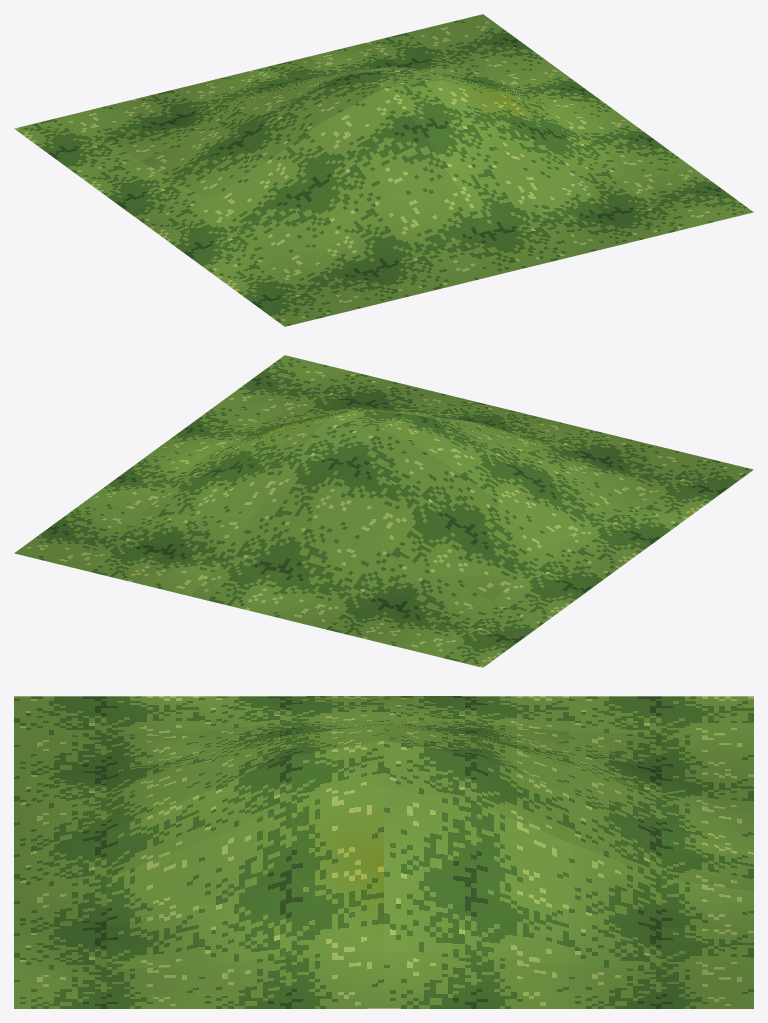
File: mter.hill__low.glb
3 views of the same model, one above another, from view 1: azimuth 30°, elevation 25°; view 2: azimuth 150°, elevation 25°; view 3: azimuth 270°, elevation 25° (orthographic). The views are drawn at different scales.
Visible parts, largest first — view 1: kit_shell_hill; view 2: kit_shell_hill; view 3: kit_shell_hill.
Part boxes in pixels (x1,y1,x2,y2): kit_shell_hill: (14,14,753,326); kit_shell_hill: (14,355,753,667); kit_shell_hill: (14,696,753,1008).
Bounding box in the file's own units: 12 × 2 × 12.
1 material, 1 textured.
